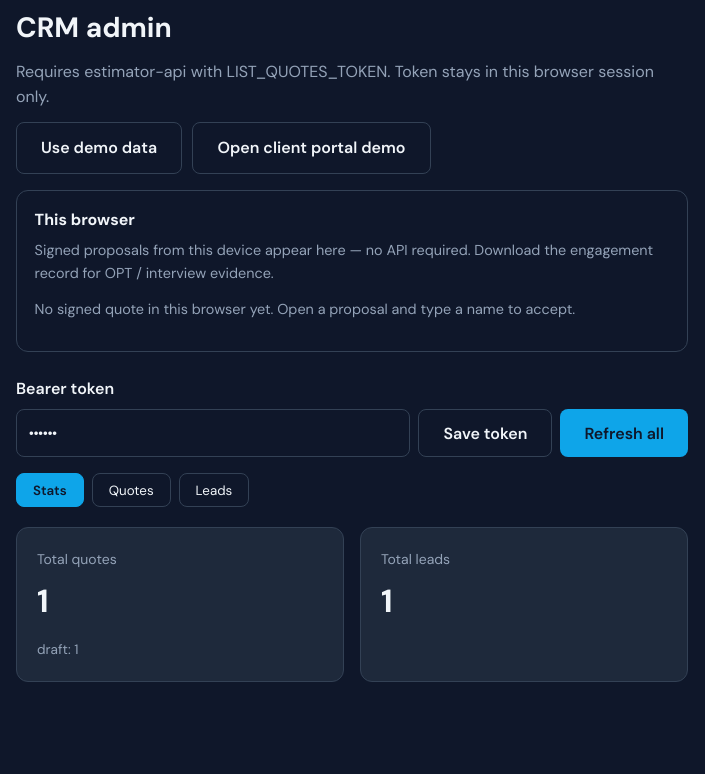
it: CrmAdmin › exports leads CSV and ignores status changes when the token is cleared
The width and height of the screenshot is (705, 774).
Later steps or results of the test are not shown.
Click the tab "Leads": coordinates (214, 490) [179,474,249,507]
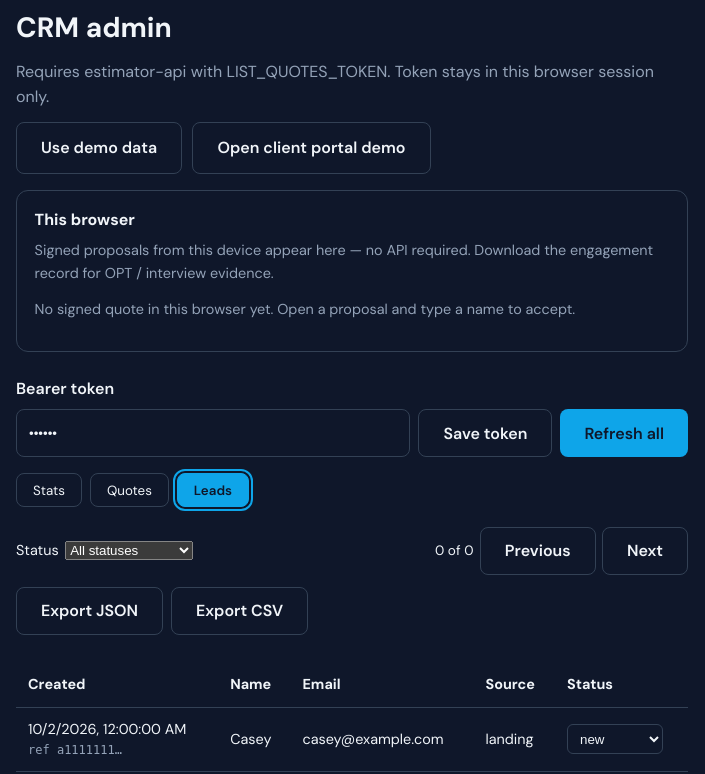
Expected: the text "Casey" is shown, [218,707,290,771]
